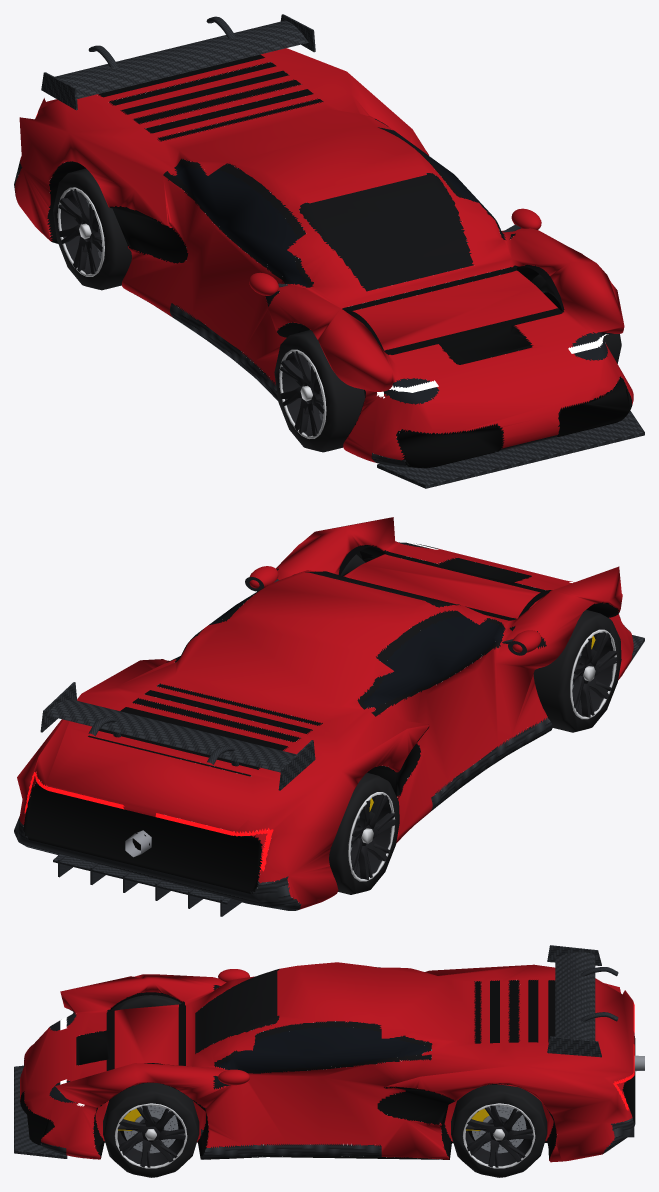
File: optimized_exotic_supercar_v4_LOD2.glb
The picture shows the model from 3 angles, top to bottom: view 1: azimuth 30°, elevation 25°; view 2: azimuth 150°, elevation 25°; view 3: azimuth 270°, elevation 25°; orthographic projection. The views are drawn at different scales.
Parts seen in each view (by area): view 1: Body_Paint, Intakes_And_Vents, Window_Trim, Active_Rear_Wing, Body_Glass, Front_Splitter, Wheel_FR_Tyre_Mesh, Wheel_RR_Tyre_Mesh, Wheel_FR_Rim_Mesh, Wheel_RR_Rim_Mesh, Body_Carbon, Headlight_Housings (+2 smaller); view 2: Body_Paint, Intakes_And_Vents, Active_Rear_Wing, Body_Glass, Body_Carbon, Wheel_FR_Tyre_Mesh, Wheel_RR_Tyre_Mesh, Window_Trim, Front_Splitter, Wheel_RR_Rim_Mesh, Wheel_FR_Rim_Mesh, Taillight_LEDs (+4 smaller); view 3: Body_Paint, Intakes_And_Vents, Window_Trim, Body_Glass, Active_Rear_Wing, Wheel_FL_Tyre_Mesh, Wheel_RL_Tyre_Mesh, Body_Carbon, Wheel_FL_Rim_Mesh, Wheel_RL_Rim_Mesh, Front_Splitter, Wheel_RL_BrakeDisc_Mesh (+6 smaller).
Part boxes in pixels (x1=…): Body_Paint: x1=15, y1=48, x2=633, y2=462; Intakes_And_Vents: x1=47, y1=54, x2=631, y2=467; Window_Trim: x1=163, y1=119, x2=515, y2=306; Active_Rear_Wing: x1=41, y1=14, x2=315, y2=110; Body_Glass: x1=175, y1=124, x2=511, y2=299; Front_Splitter: x1=377, y1=410, x2=644, y2=488; Wheel_FR_Tyre_Mesh: x1=274, y1=330, x2=364, y2=452; Wheel_RR_Tyre_Mesh: x1=53, y1=168, x2=131, y2=290; Wheel_FR_Rim_Mesh: x1=280, y1=351, x2=324, y2=436; Wheel_RR_Rim_Mesh: x1=58, y1=189, x2=102, y2=274; Body_Carbon: x1=14, y1=161, x2=632, y2=468; Headlight_Housings: x1=383, y1=332, x2=613, y2=404; Body_Paint: x1=17, y1=517, x2=633, y2=909; Intakes_And_Vents: x1=23, y1=545, x2=630, y2=893; Active_Rear_Wing: x1=40, y1=682, x2=315, y2=790; Body_Glass: x1=176, y1=595, x2=513, y2=708; Body_Carbon: x1=14, y1=652, x2=632, y2=910; Wheel_FR_Tyre_Mesh: x1=533, y1=610, x2=621, y2=732; Wheel_RR_Tyre_Mesh: x1=329, y1=773, x2=399, y2=894; Window_Trim: x1=166, y1=568, x2=546, y2=716; Front_Splitter: x1=53, y1=635, x2=644, y2=916; Wheel_RR_Rim_Mesh: x1=350, y1=794, x2=395, y2=879; Wheel_FR_Rim_Mesh: x1=572, y1=632, x2=617, y2=717; Taillight_LEDs: x1=24, y1=771, x2=273, y2=871; Body_Paint: x1=20, y1=962, x2=634, y2=1162; Intakes_And_Vents: x1=20, y1=980, x2=635, y2=1161; Window_Trim: x1=195, y1=969, x2=432, y2=1089; Body_Glass: x1=217, y1=967, x2=428, y2=1083; Active_Rear_Wing: x1=547, y1=945, x2=618, y2=1057; Wheel_FL_Tyre_Mesh: x1=103, y1=1082, x2=199, y2=1177; Wheel_RL_Tyre_Mesh: x1=451, y1=1084, x2=547, y2=1177; Body_Carbon: x1=39, y1=1038, x2=635, y2=1159; Wheel_FL_Rim_Mesh: x1=117, y1=1105, x2=185, y2=1167; Wheel_RL_Rim_Mesh: x1=465, y1=1105, x2=533, y2=1167; Front_Splitter: x1=14, y1=1065, x2=634, y2=1158; Wheel_RL_BrakeDisc_Mesh: x1=472, y1=1105, x2=526, y2=1153.
Bounding box in the file's own units: 1.99 × 1.12 × 4.71.
15 materials, 2 textured.
